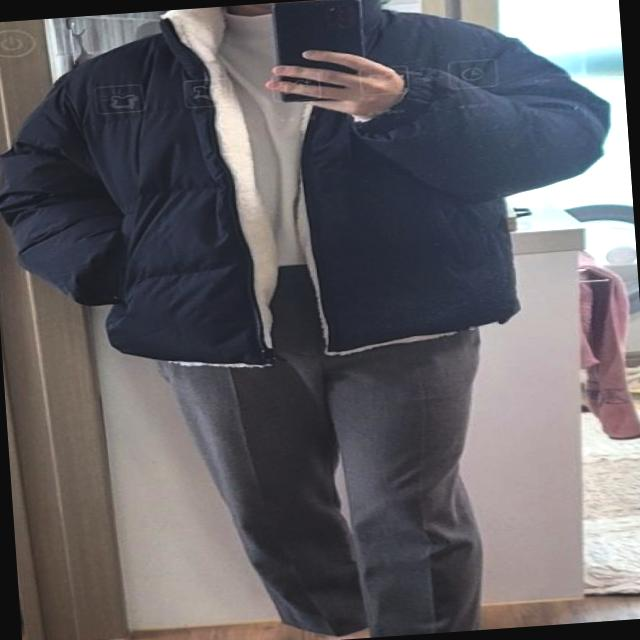padding: (0, 0, 620, 384)
slacks: (154, 238, 498, 640)
